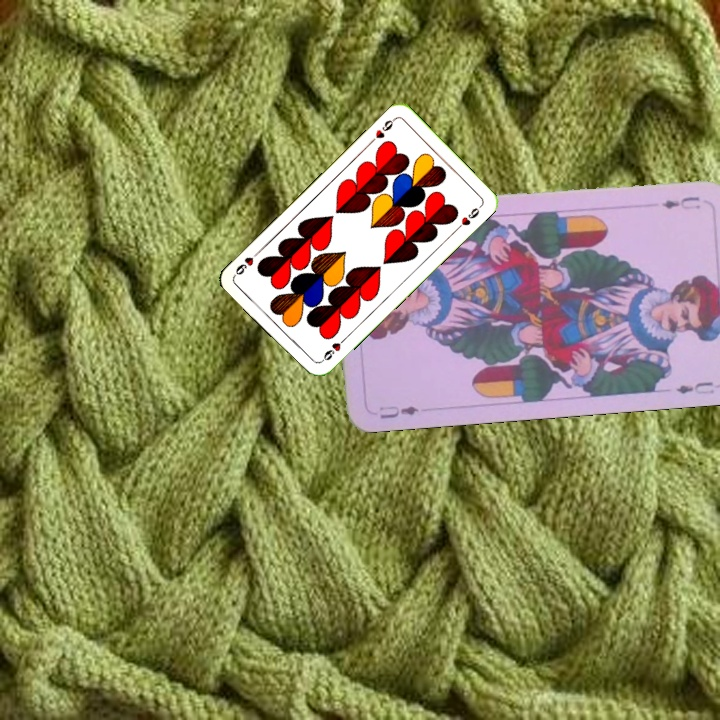EU: (375, 401, 422, 421), (658, 192, 702, 212)
H9: (316, 333, 349, 365), (366, 114, 398, 146)
